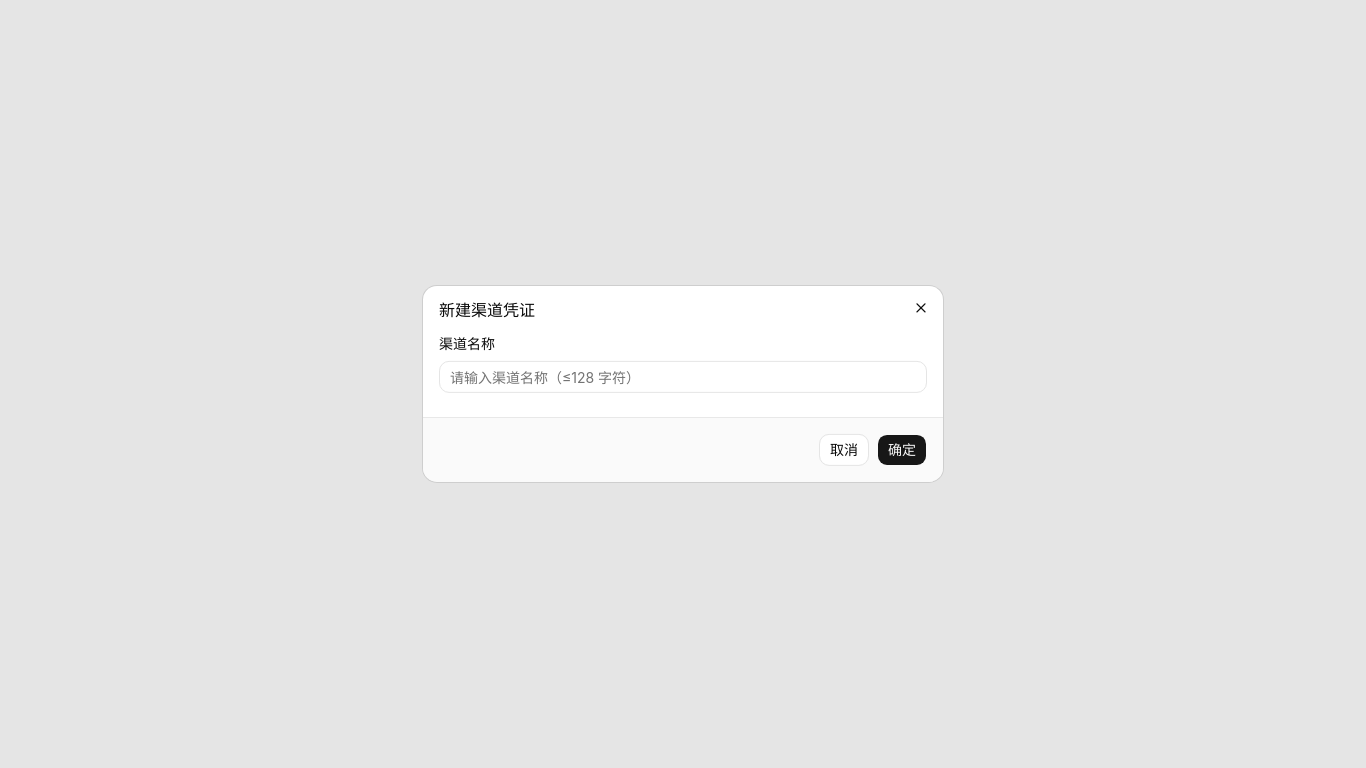
Test: CreateEditModal (渠道凭证 新建/编辑弹窗) › 表单校验拦截 - 渠道名称为空时不发起请求并展示必填错误
The width and height of the screenshot is (1366, 768).
Click the button "确定" at (902, 450), box [877, 434, 927, 466]
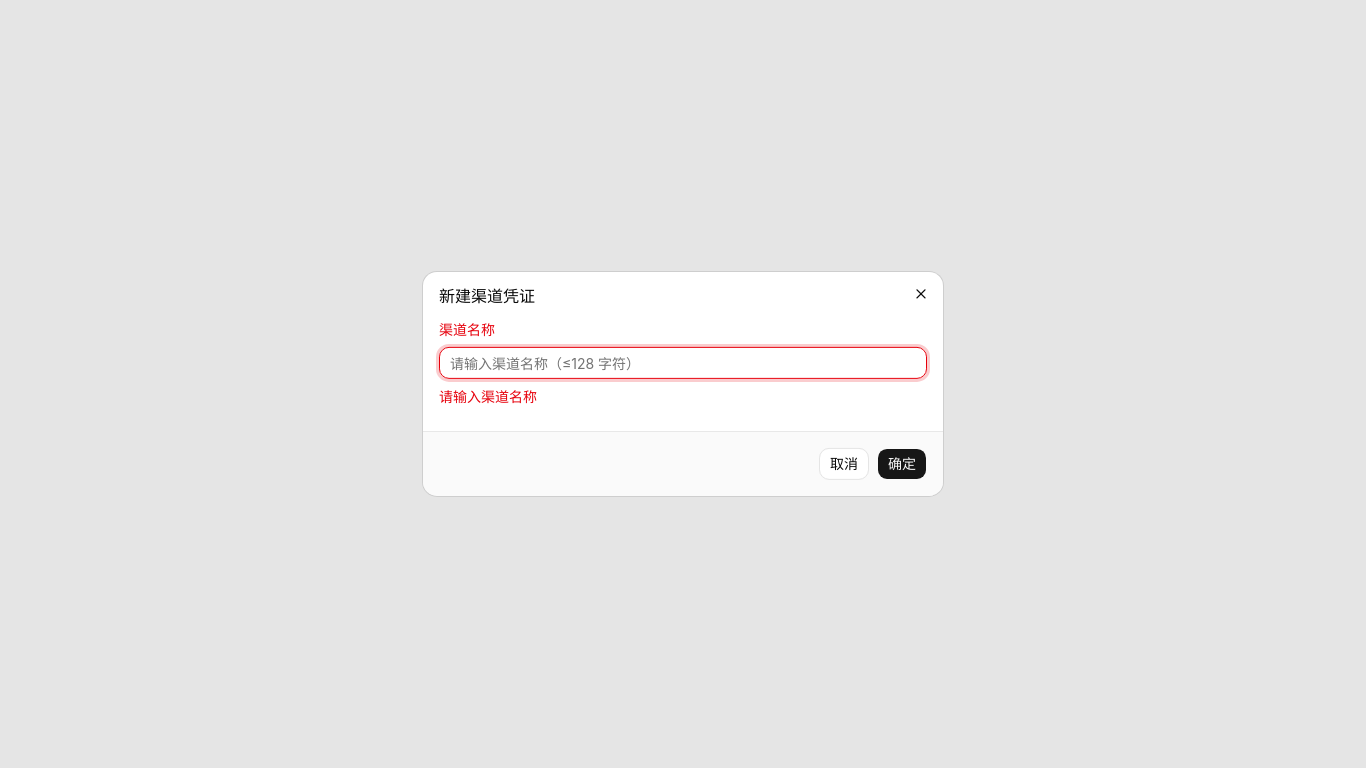
Check: the text "请输入渠道名称" is shown, box [439, 388, 537, 405]
